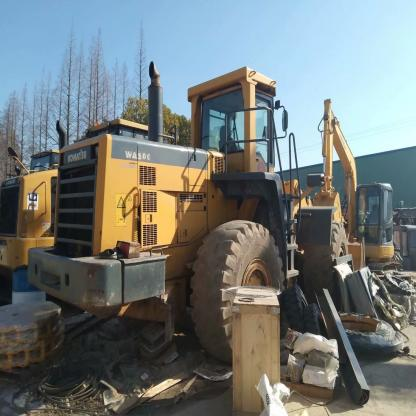bull_dozer/loader/grader: (42, 51, 360, 366)
